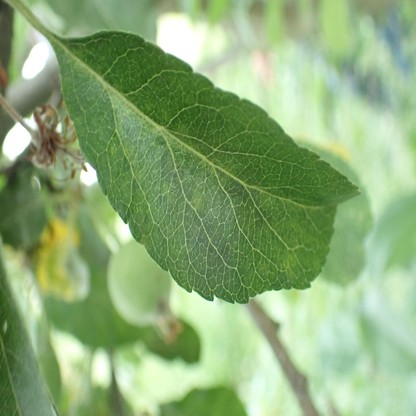scab: (117, 128, 142, 181), (191, 186, 203, 211), (162, 180, 174, 203), (112, 143, 116, 155)
